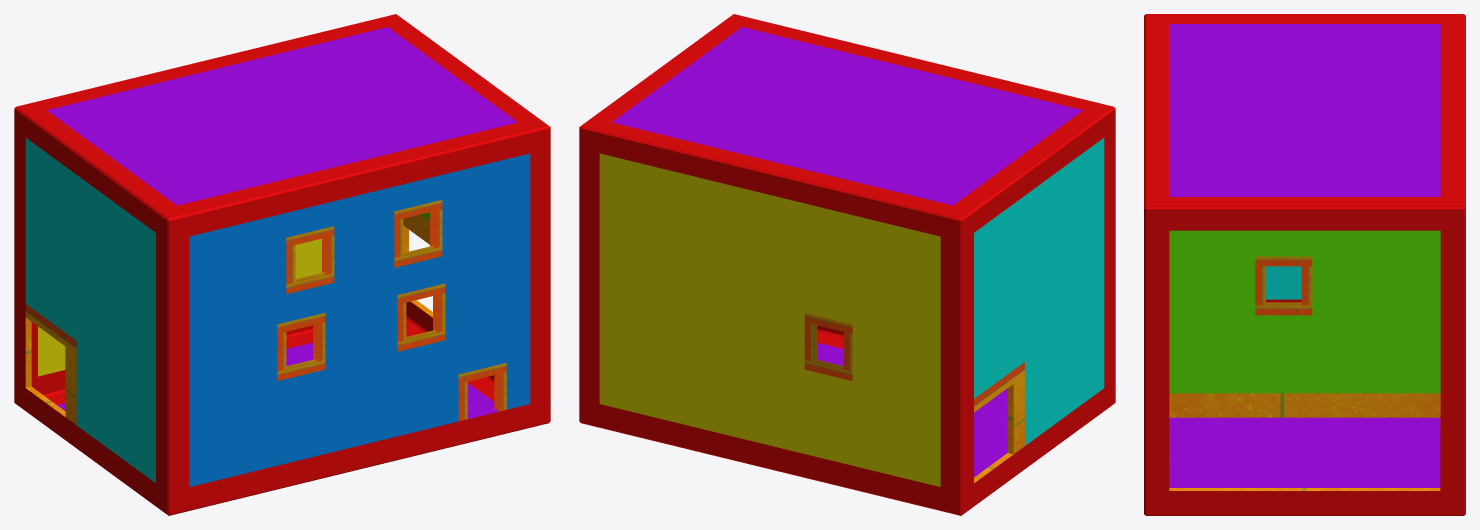
Rendered from SecurityBuilding_01_SM_Low.fbx.
3 views of the same model, side by side, from view 1: azimuth 30°, elevation 25°; view 2: azimuth 150°, elevation 25°; view 3: azimuth 270°, elevation 25° (orthographic). The views are drawn at different scales.
Parts seen in each view (by area): view 1: Wall_1, Corners2, Ceiling_and_Base, Wall_2, Rims, Wall_3; view 2: Wall_3, Corners2, Ceiling_and_Base, Wall_2, Rims; view 3: Ceiling_and_Base, Corners2, Wall_4, Rims, Wall_2.
Boxes of the visible parts, x1,y1,x2,y2 form: Wall_1: [189, 153, 530, 486]; Corners2: [14, 14, 550, 515]; Ceiling_and_Base: [47, 27, 517, 418]; Wall_2: [25, 138, 155, 482]; Rims: [25, 200, 506, 424]; Wall_3: [38, 238, 321, 376]; Wall_3: [599, 153, 940, 486]; Corners2: [579, 14, 1115, 515]; Ceiling_and_Base: [612, 27, 1082, 477]; Wall_2: [974, 138, 1104, 445]; Rims: [804, 313, 1024, 482]; Ceiling_and_Base: [1169, 24, 1440, 487]; Corners2: [1144, 14, 1465, 515]; Wall_4: [1169, 230, 1440, 393]; Rims: [1169, 256, 1440, 490]; Wall_2: [1265, 266, 1301, 299].
Bounding box in the file's own units: 25.6 × 18.97 × 17.89.
7 materials, 1 textured.
